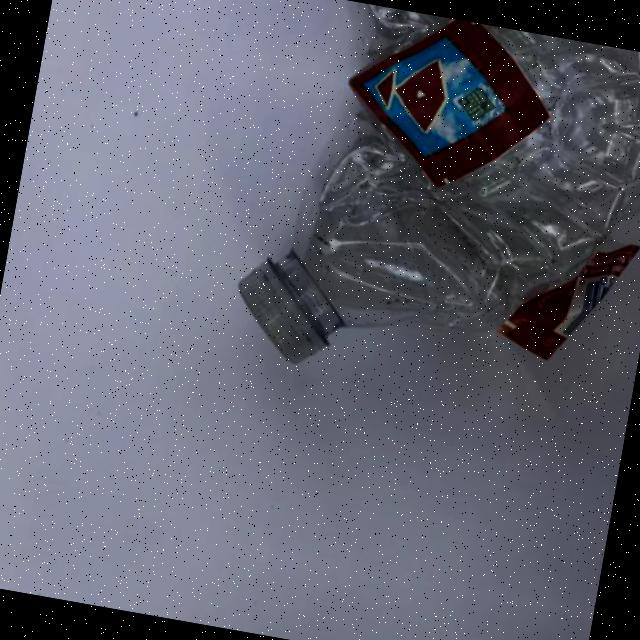Plastic: (198, 63, 640, 432), (249, 0, 640, 138)
